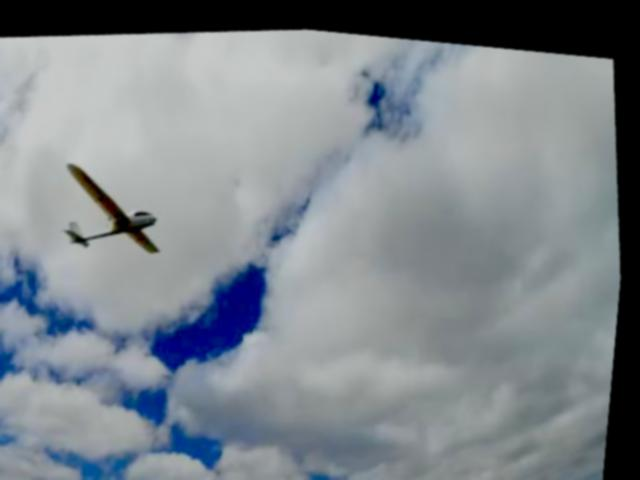uav: (45, 130, 184, 275)
